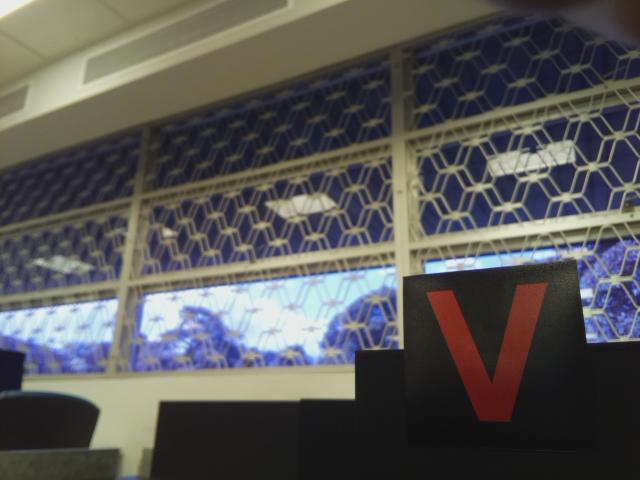v: (415, 276, 560, 433)
